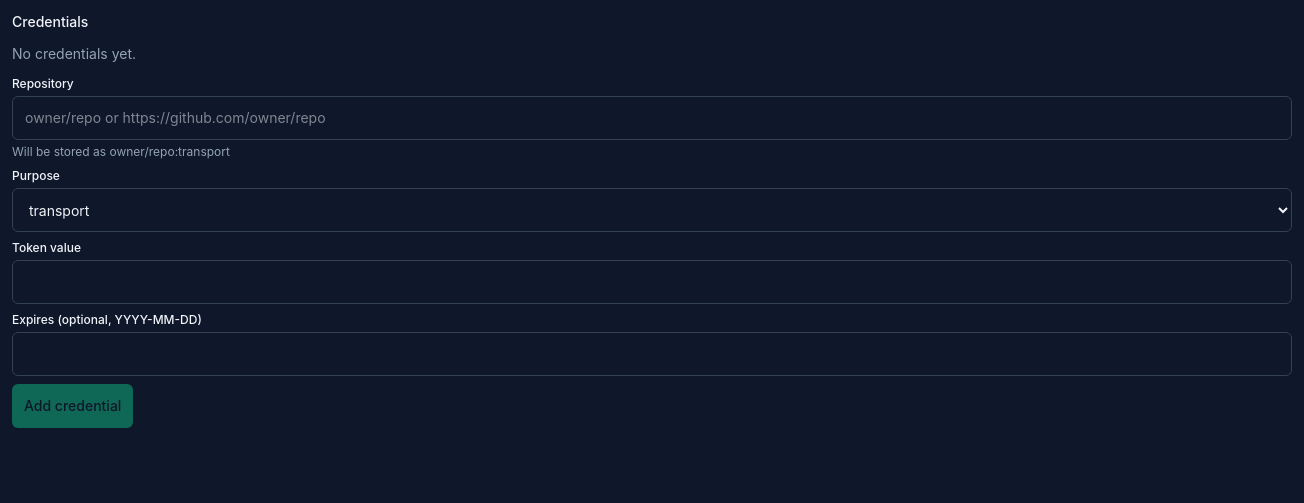
Test: CredentialsSection › surfaces a list-shaped validation detail (422) as the status text, no longer the raw JSON body
This screenshot has width=1304, height=503.
Expected: the text "No credentials yet." is shown, [12,45,136,62]
Type "acme/widget" into the field with test id "credential-engine-input" at coordinates (652, 118), box [12,96,1292,140]
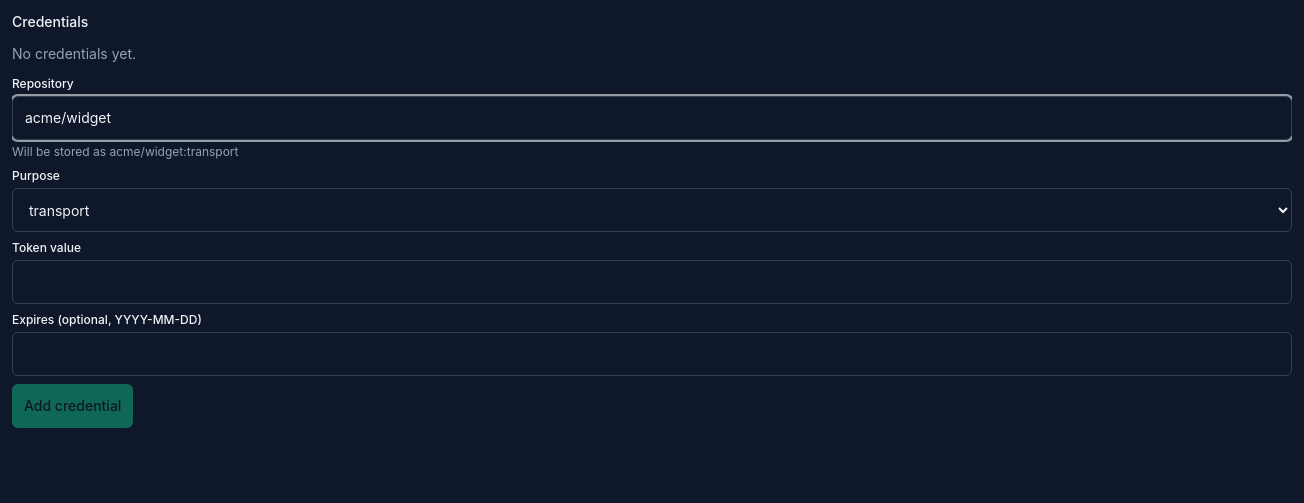
Type "x" into the password field with test id "credential-value-input" at coordinates (652, 282), box [12,260,1292,304]
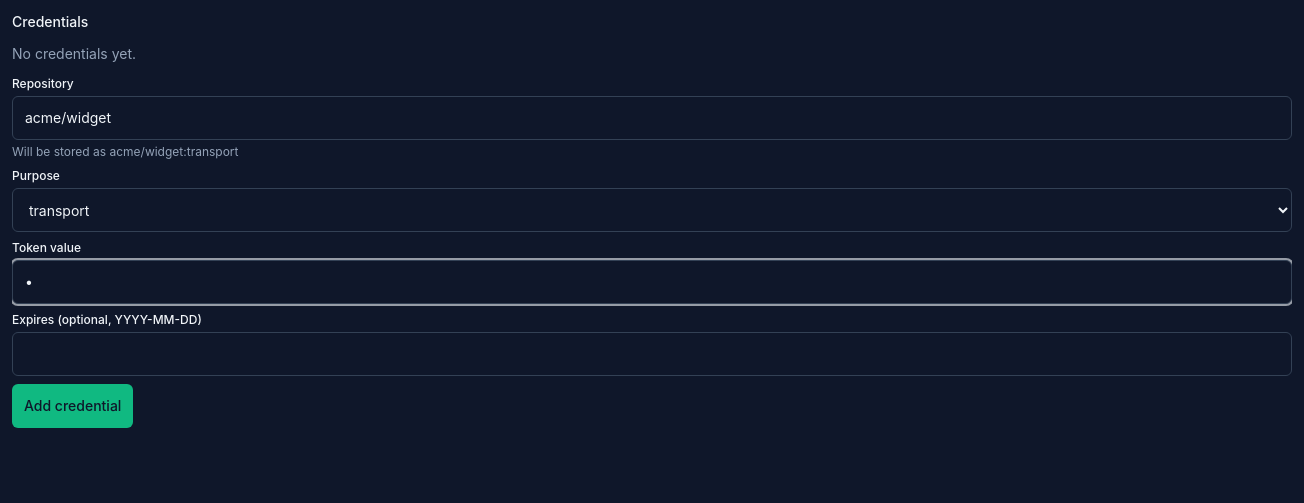
Click the button with test id "credential-submit" at coordinates (73, 406), box [12,384,133,428]
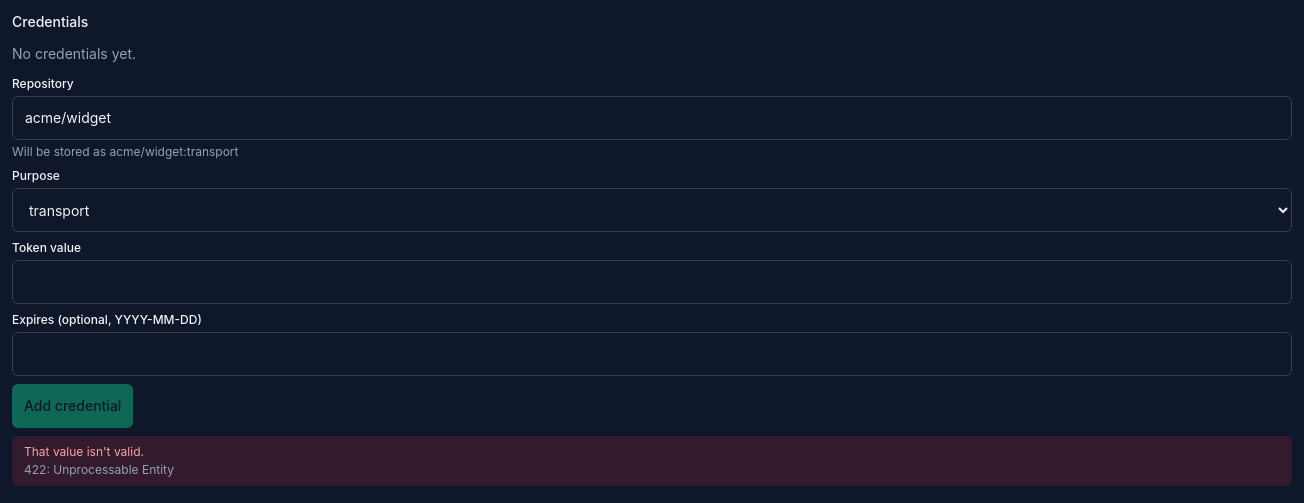
Expected: the message with test id "credential-form-error" does not show "Field required", [12,436,1292,486]
Expected: the message with test id "credential-form-error" shows "Unprocessable Entity", [24,462,174,477]
